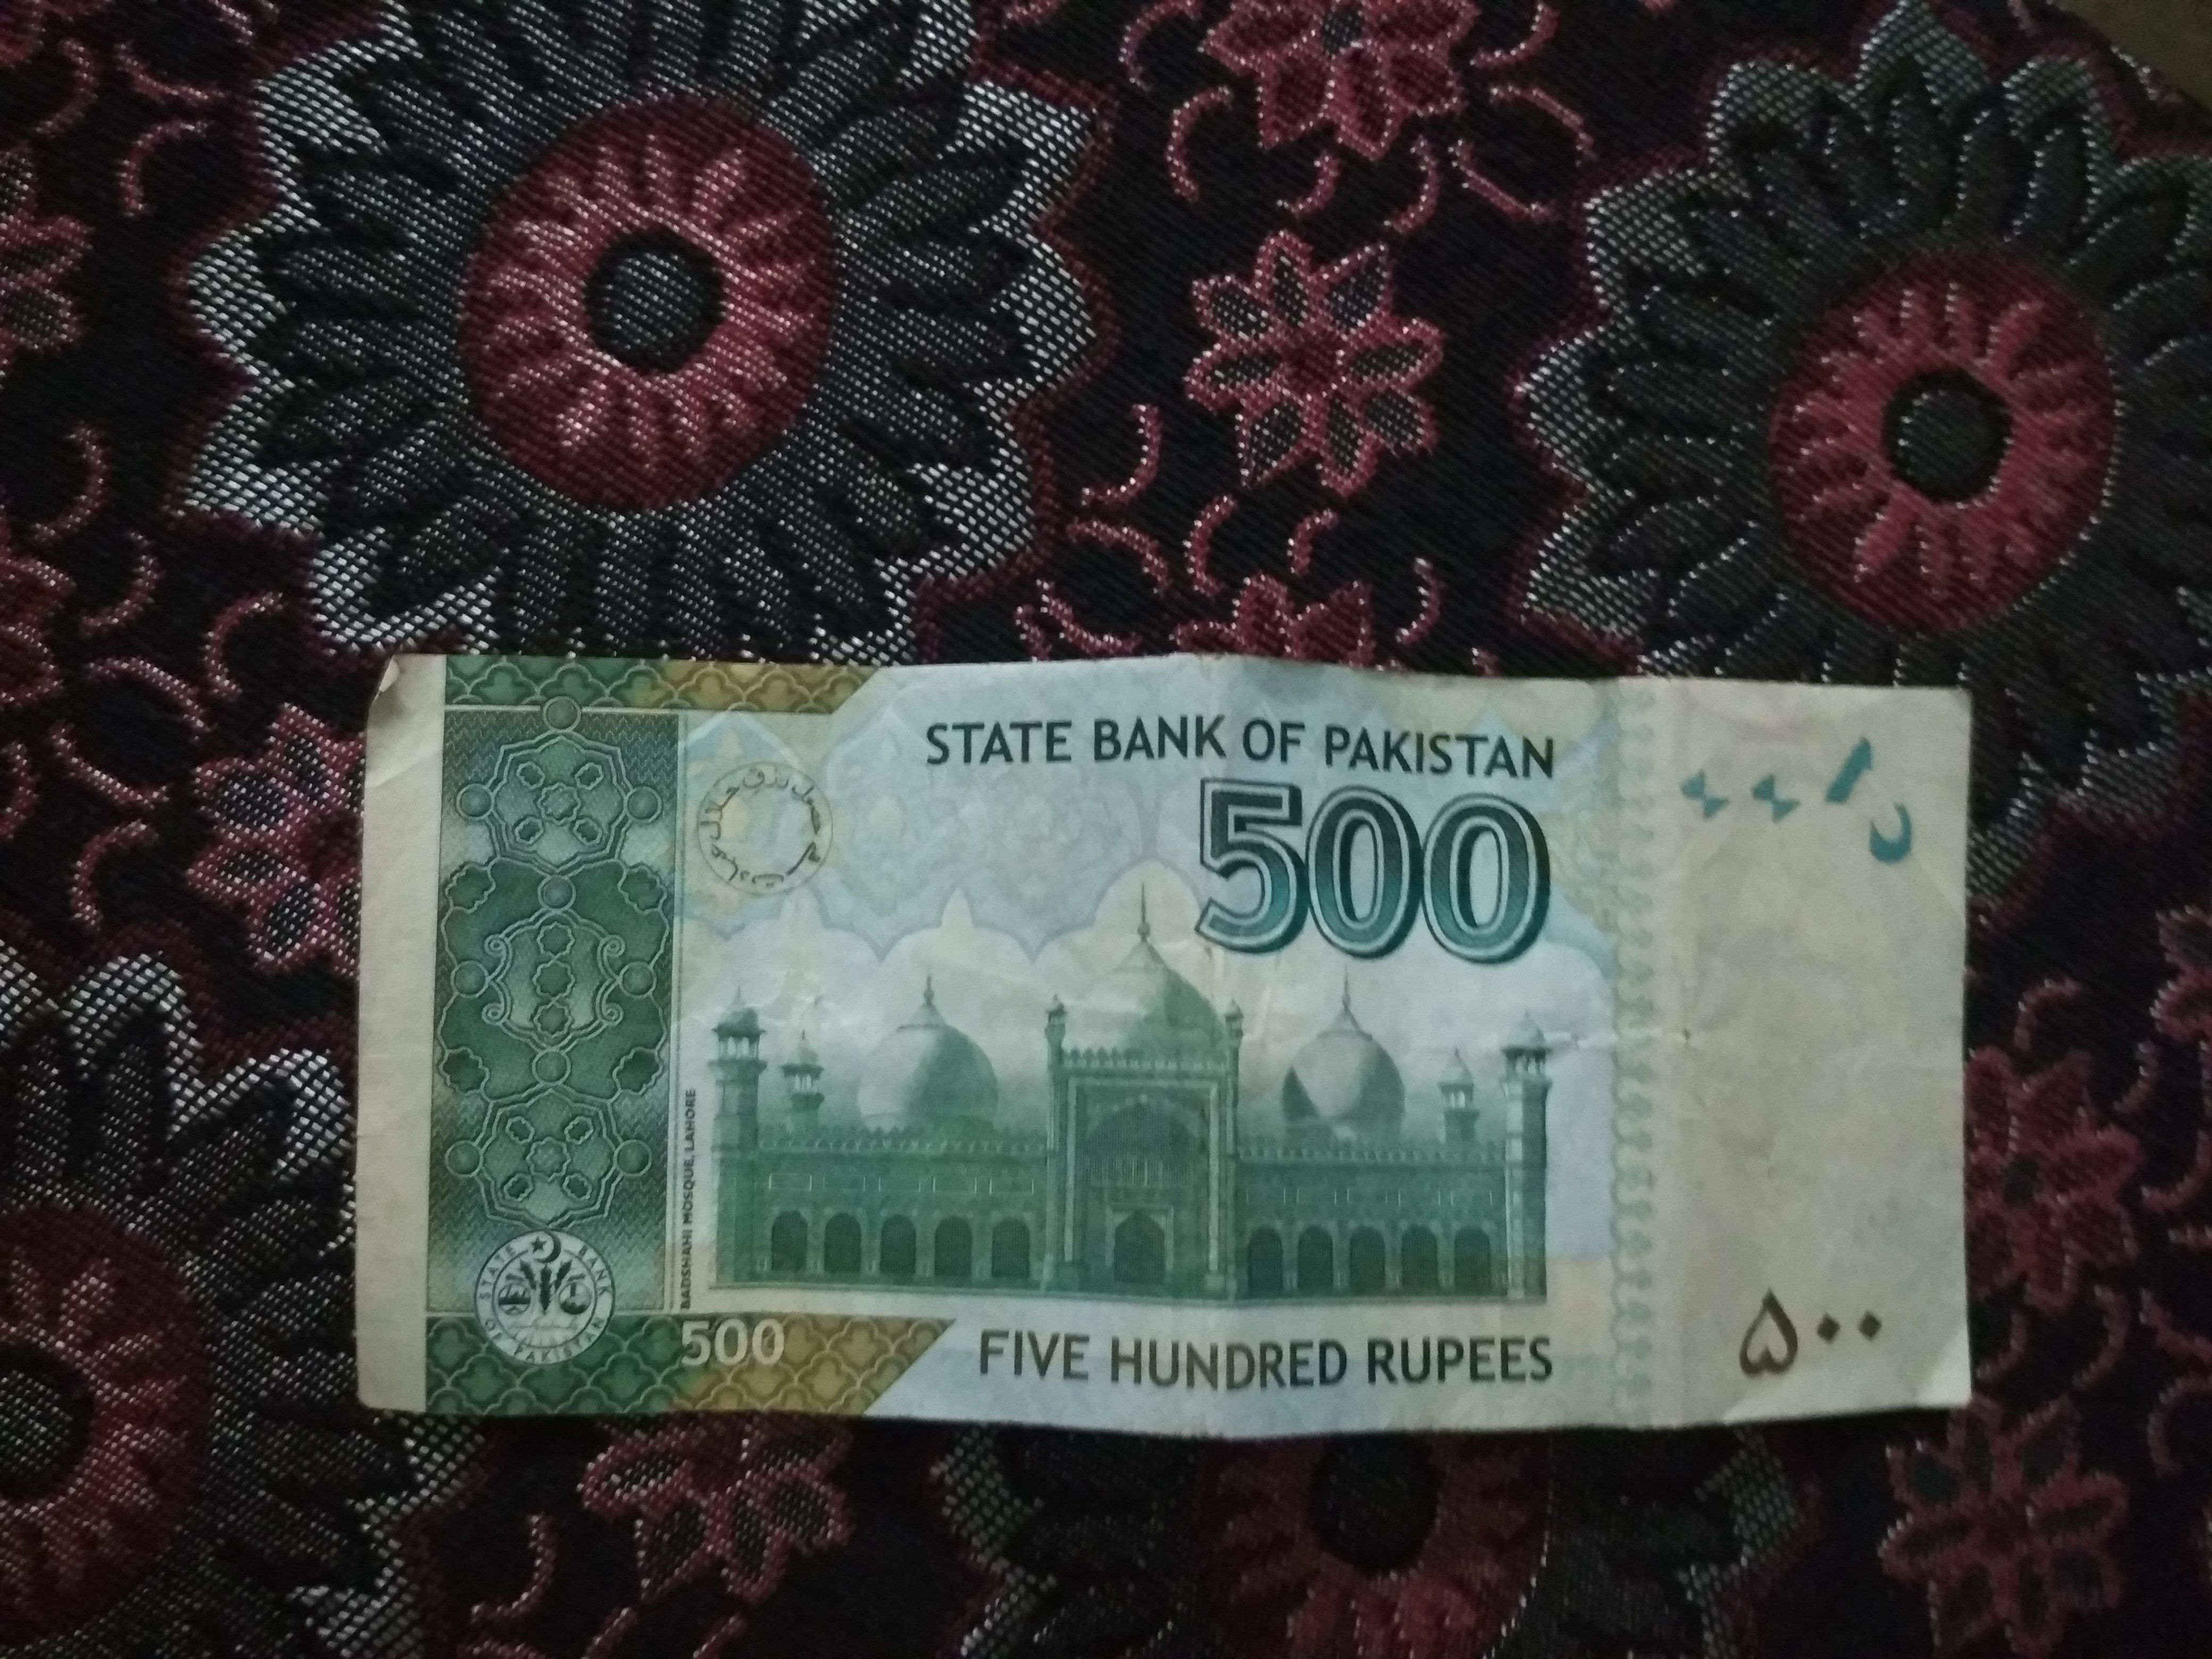500 rupee: (340, 592, 2045, 1535)
